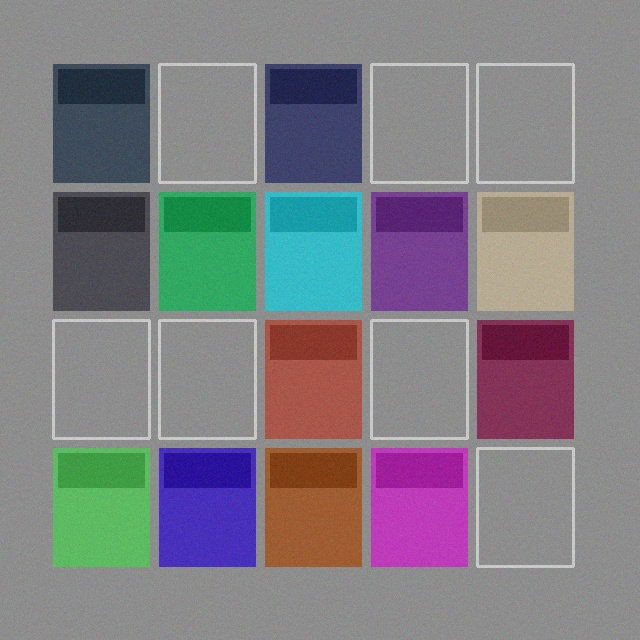space-empty: (159, 64, 255, 182), (371, 64, 467, 182), (477, 64, 573, 182), (53, 320, 149, 438), (159, 320, 255, 438), (371, 320, 467, 438), (477, 448, 573, 566)
space-occupied: (53, 64, 149, 182), (265, 64, 361, 182), (53, 192, 149, 310), (159, 192, 255, 310), (265, 192, 361, 310), (371, 192, 467, 310), (477, 192, 573, 310), (265, 320, 361, 438), (477, 320, 573, 438), (53, 448, 149, 566), (159, 448, 255, 566), (265, 448, 361, 566), (371, 448, 467, 566)
